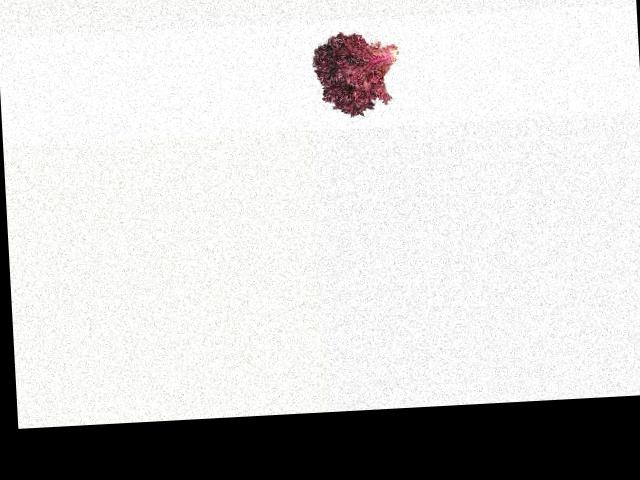lettuce: (306, 32, 410, 121)
